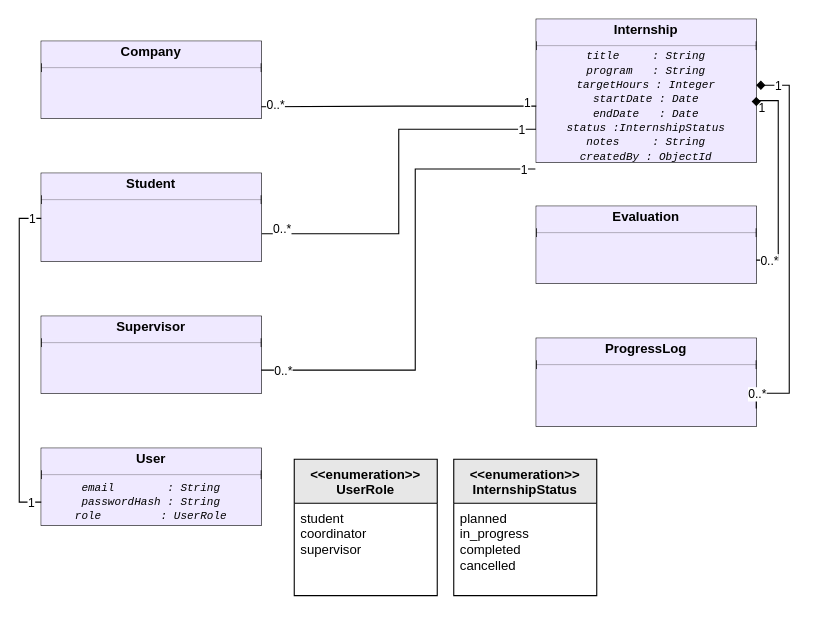
This 817x618 diagram has some shape labels left out. Here are the shapes that lost their labels. From the top down, the centre of each, then its label:
At [151,95]: "name : String contactEmail : String".
At [151,232]: "studentId : String name : String program : String".
At [646,260]: "score : Integer feedback : String".
At [151,369]: "name : String email : String".
At [646,397]: "logDate : Date hours : Integer note : String".
